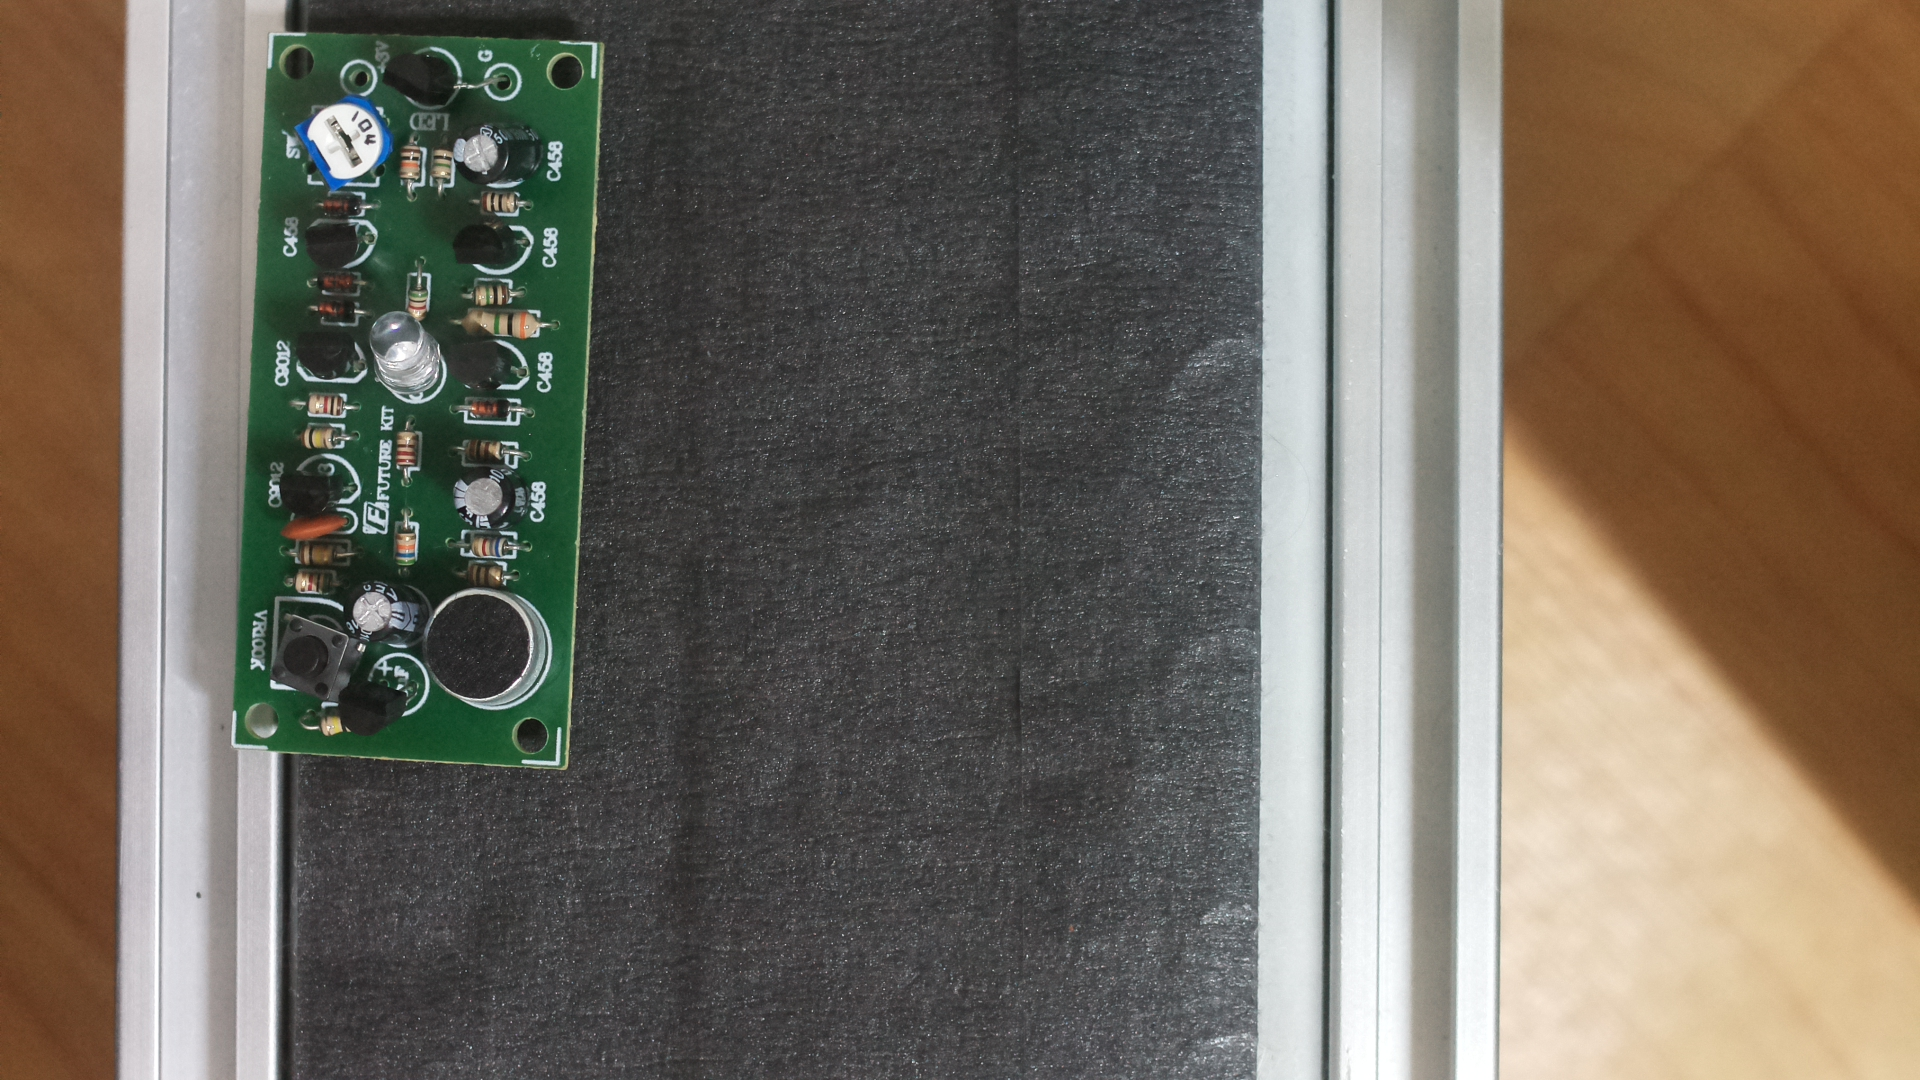A_Misordered: (216, 20, 622, 793)
